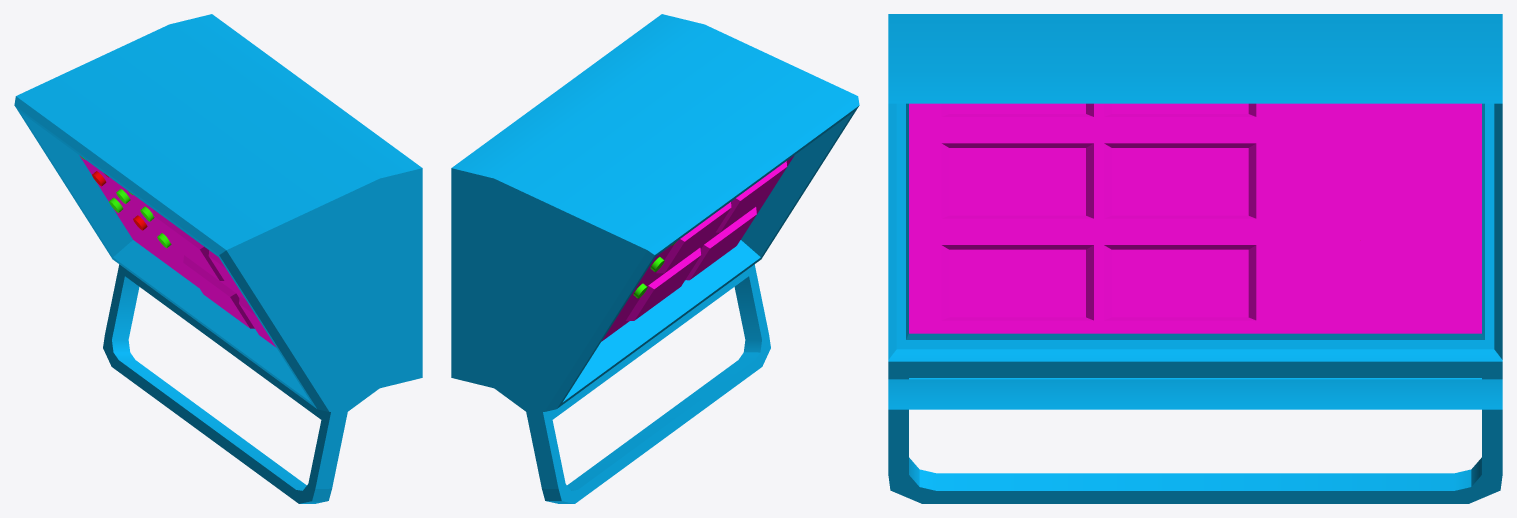
File: Panel.FBX
The picture shows the model from 3 angles, left to right: view 1: azimuth 30°, elevation 25°; view 2: azimuth 150°, elevation 25°; view 3: azimuth 270°, elevation 25°; orthographic projection. The views are drawn at different scales.
Visible parts, largest first — view 1: Box001, Screen; view 2: Box001, Screen; view 3: Box001, Screen.
Part boxes in pixels (x1,y1,x2,y2): Box001: (14,14,422,503); Screen: (79,155,276,347); Box001: (451,14,859,503); Screen: (601,155,794,341); Box001: (888,14,1502,503); Screen: (909,103,1481,333).
Size of the model in its own units: 16.12 by 24.66 by 29.32.
